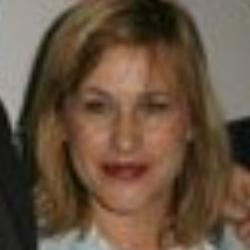face: (5, 3, 244, 233)
